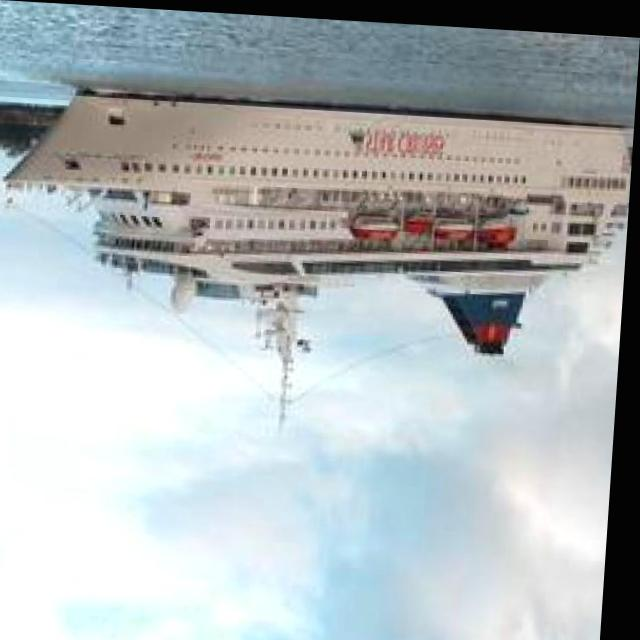ship2: (7, 85, 634, 409)
